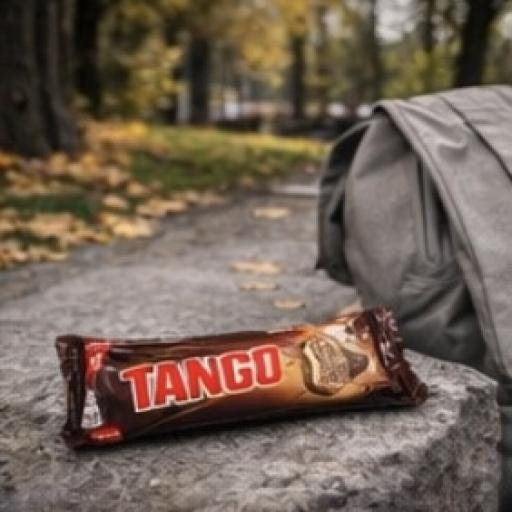tango: (44, 275, 464, 469)
